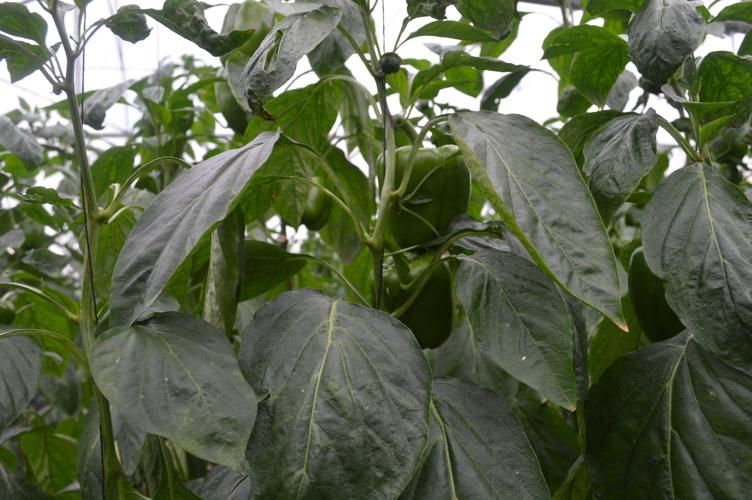BellPepper: (369, 146, 472, 249), (373, 252, 454, 347), (624, 252, 682, 344), (216, 1, 270, 51), (215, 73, 254, 137), (296, 177, 329, 231)
